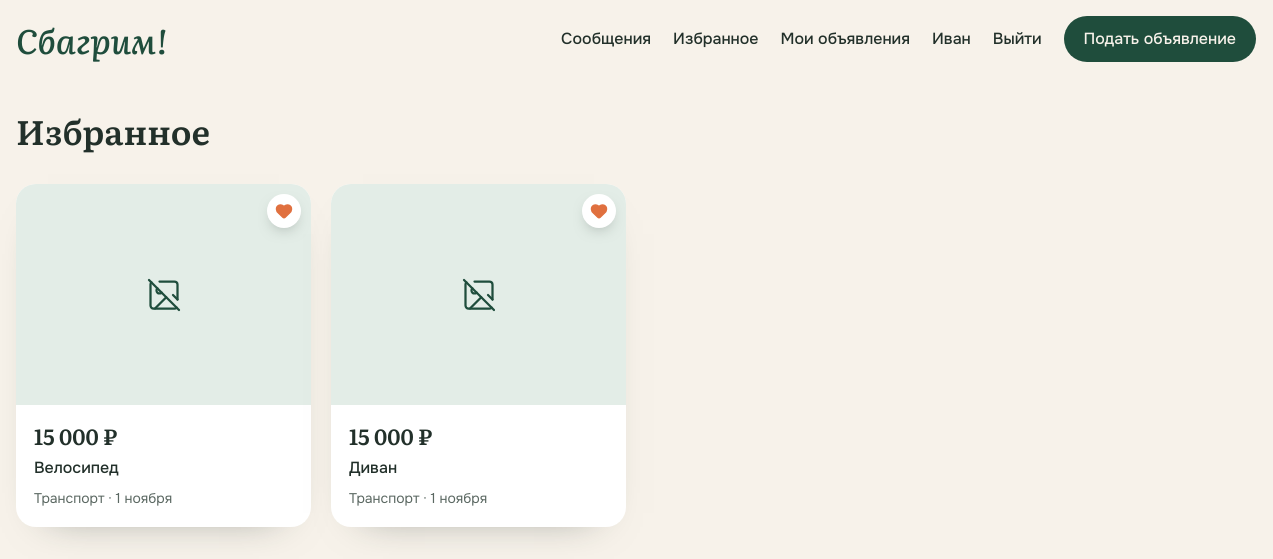
it: избранное › страница показывает избранное, снятая карточка исчезает
Expected: the number of list items is 2, [16,184,311,527]; [331,184,626,527]
Click the button named "В избранном: Велосипед" at (284, 211), box [267,194,301,228]
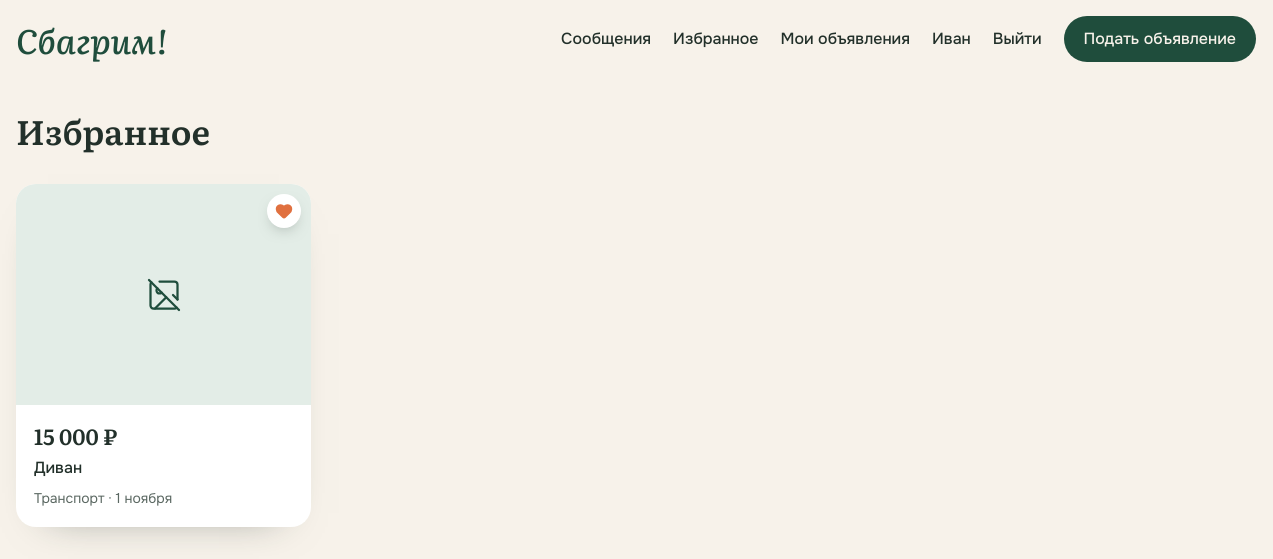
Expected: the heading "Диван" is shown, [34,457,82,478]
Expected: the number of list items is 1, [16,184,311,527]
